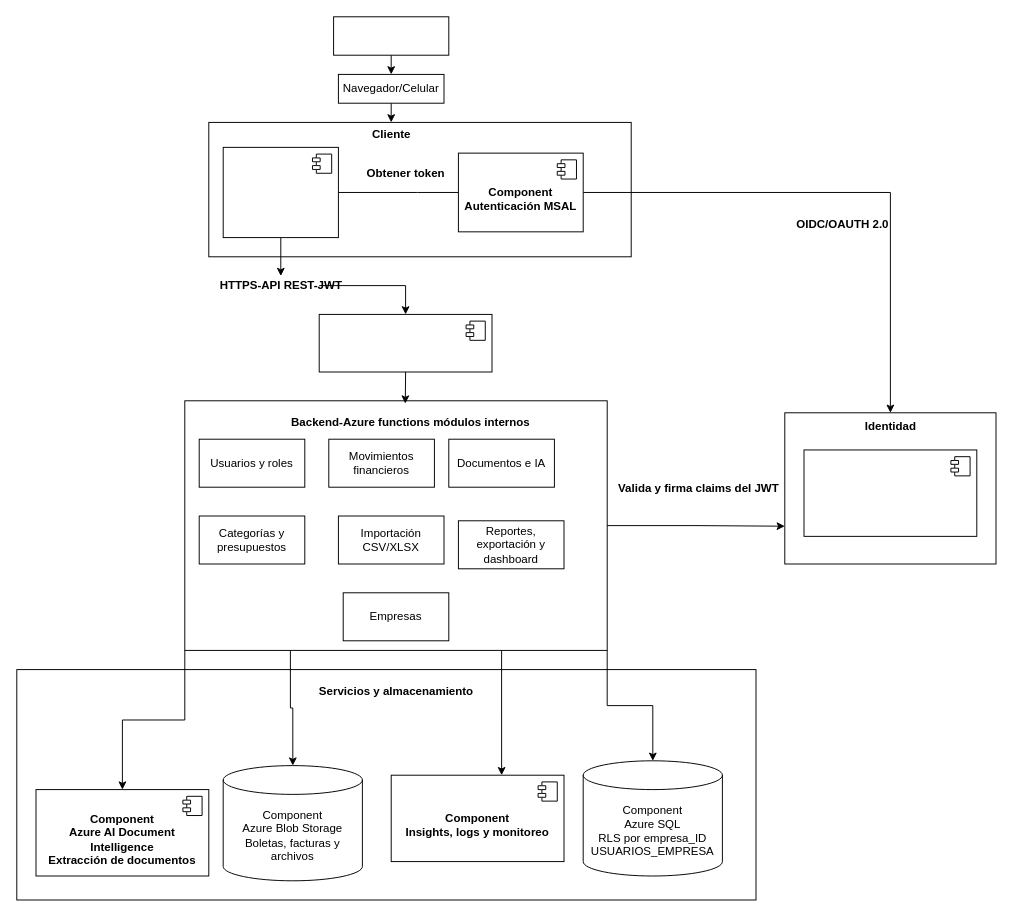
Image size: 1013x917. Some labels were removed from this diagram. Each missing label, with the centre of its shape:
Component API REST FastApi: [405,342]
Component Frontend React + Vite(PWA) Netlify: [280,192]
Component Microsoft Entra External ID Inicio de sesión y tokens: [890,492]
Usuarios: [391,35]
